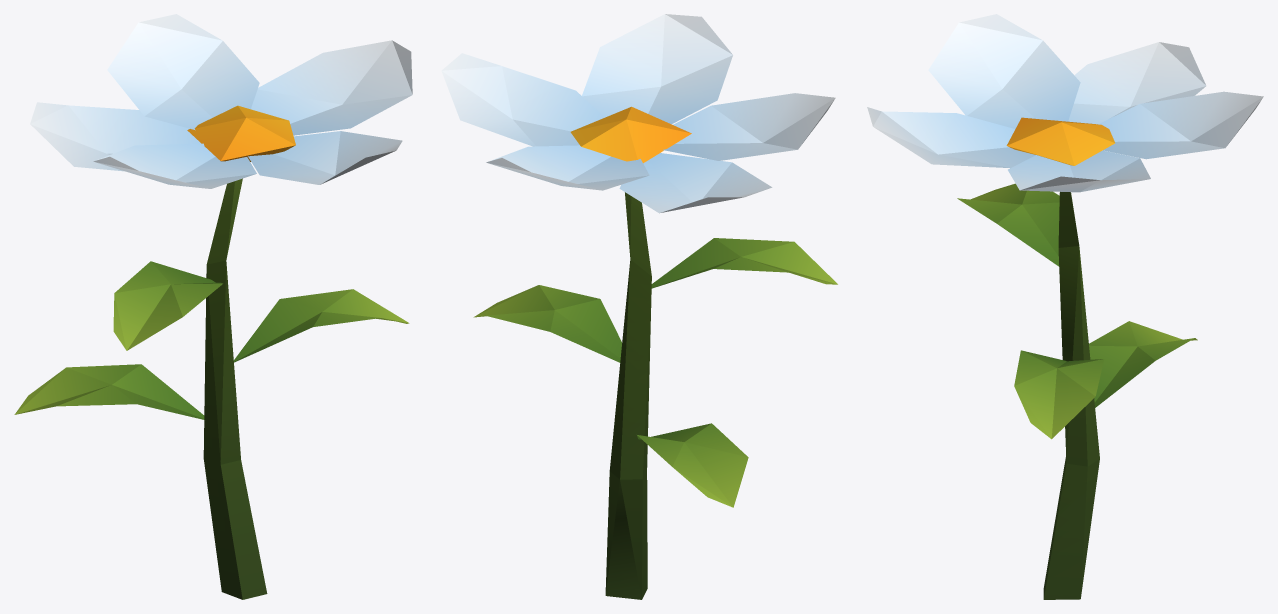
Rendered from Flower_01.fbx.
The picture shows the model from 3 angles, left to right: view 1: azimuth 30°, elevation 25°; view 2: azimuth 150°, elevation 25°; view 3: azimuth 270°, elevation 25°; orthographic projection.
Parts seen in each view (by area): view 1: Flower_01; view 2: Flower_01; view 3: Flower_01.
Boxes of the visible parts, <box> form: Flower_01: <box>14,14,412,599</box>; Flower_01: <box>441,14,837,599</box>; Flower_01: <box>867,14,1263,599</box>.
Bounding box in the file's own units: 0.208 × 0.2958 × 0.2137.
